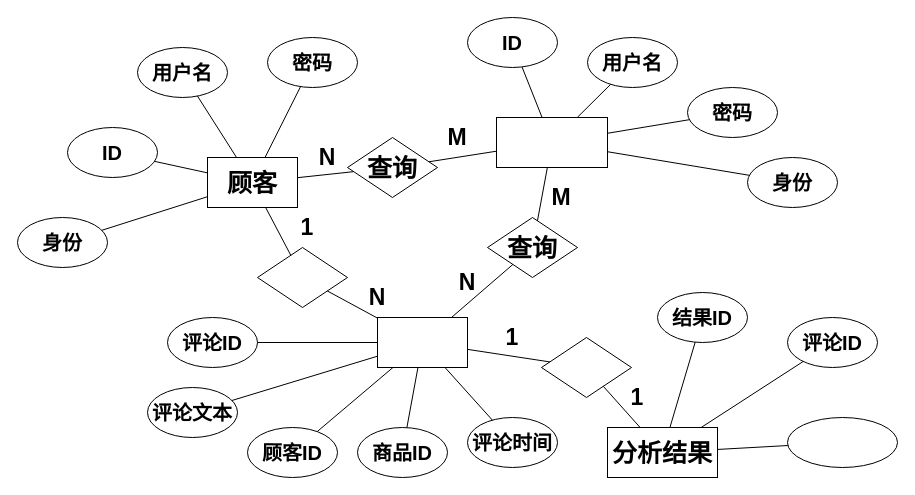
The diagram is 915 pixels wide and 495 high, and some of its shapes have lost their labels. The shapes that lost their labels are listed below. From the top down, each one's centre as x and y in pixels, then its label:
point 552,142: 管理人员
point 302,277: 管理
point 422,342: 评论
point 586,367: 分析
point 842,442: 属性-极性对
